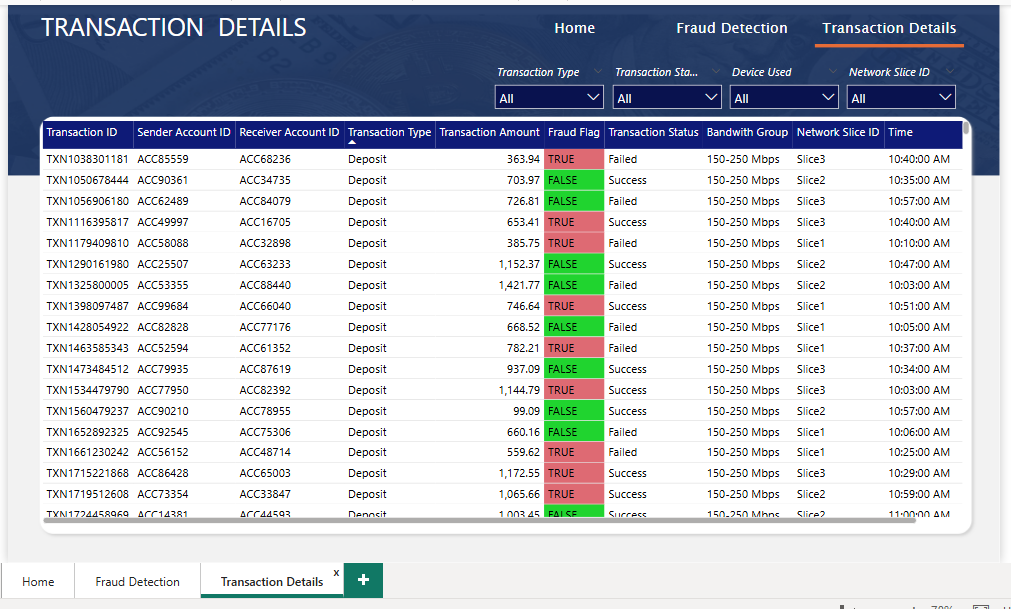

This screenshot's page, from the dashboard's own definition file:
{"tool":"powerbi","page":{"name":"  Transaction Details","canvas":[1280,720],"ordinal":2},"visuals":[{"type":"tableEx","fields":{"Values":["bank transaction_data.Transaction ID","bank transaction_data.Sender Account ID","bank transaction_data.Receiver Account ID","bank transaction_data.Transaction Type","bank transaction_data.Transaction Amount","bank transaction_data.Fraud Flag","bank transaction_data.Transaction Status","bank transaction_data.Bandwith Group","bank transaction_data.Network Slice ID","bank transaction_data.Time"]},"box":[38.6,144.3,1207.1,530],"z":0},{"type":"slicer","fields":{"Values":["bank transaction_data.Network Slice ID"]},"box":[1072.9,71.4,161.4,70],"z":1000},{"type":"slicer","fields":{"Values":["bank transaction_data.Device Used"]},"box":[921.4,71.4,161.4,70],"z":2000},{"type":"slicer","fields":{"Values":["bank transaction_data.Transaction Status"]},"box":[770,71.4,161.4,70],"z":3000},{"type":"slicer","fields":{"Values":["bank transaction_data.Transaction Type"]},"box":[618.6,71.4,161.4,70],"z":4000},{"type":"textbox","box":[37.5,0,436.1,55.6],"z":5000},{"type":"pageNavigator","box":[634.3,5.7,600,50],"z":6000}]}

Visuals, with their boxes on the page's 1280x720 design canvas (x1, y1, x2, y2). These are canvas units, not pixel positions in the 1011x609 screenshot, which may show the page scaled, cropped or inside an application window:
tableEx - bank transaction_data.Transaction ID x bank transaction_data.Sender Account ID: pyautogui.locateOnScreen(39, 144, 1246, 674)
slicer - bank transaction_data.Network Slice ID: pyautogui.locateOnScreen(1073, 71, 1234, 141)
slicer - bank transaction_data.Device Used: pyautogui.locateOnScreen(921, 71, 1083, 141)
slicer - bank transaction_data.Transaction Status: pyautogui.locateOnScreen(770, 71, 931, 141)
slicer - bank transaction_data.Transaction Type: pyautogui.locateOnScreen(619, 71, 780, 141)
textbox: pyautogui.locateOnScreen(38, 0, 474, 56)
pageNavigator: pyautogui.locateOnScreen(634, 6, 1234, 56)
